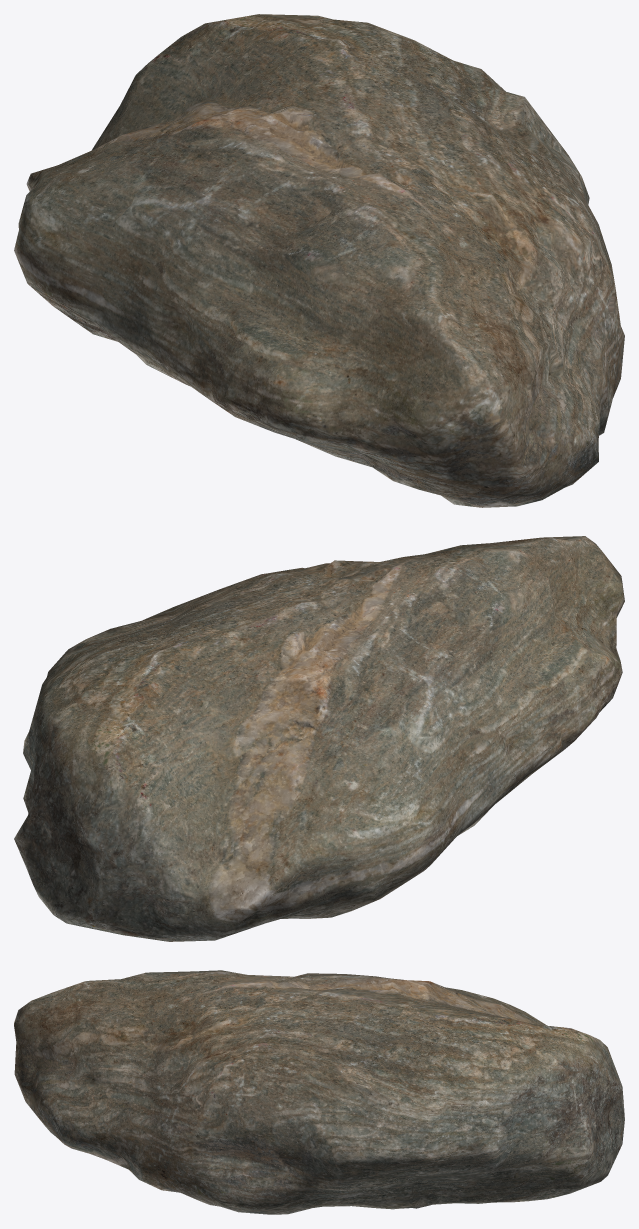
The model's file is vjcqbgi_tier_2.gltf.
3 views of the same model, one above another, from view 1: azimuth 30°, elevation 25°; view 2: azimuth 150°, elevation 25°; view 3: azimuth 270°, elevation 25° (orthographic). The views are drawn at different scales.
Visible parts, largest first — view 1: vjcqbgi_LOD0_TIER2_000; view 2: vjcqbgi_LOD0_TIER2_000; view 3: vjcqbgi_LOD0_TIER2_000.
Boxes of the visible parts, bbox=[...] form: vjcqbgi_LOD0_TIER2_000: bbox=[14, 14, 624, 507]; vjcqbgi_LOD0_TIER2_000: bbox=[14, 536, 624, 941]; vjcqbgi_LOD0_TIER2_000: bbox=[14, 970, 624, 1214].
Size of the model in its own units: 0.1401 by 0.0753 by 0.2287.
1 material, 1 textured.
